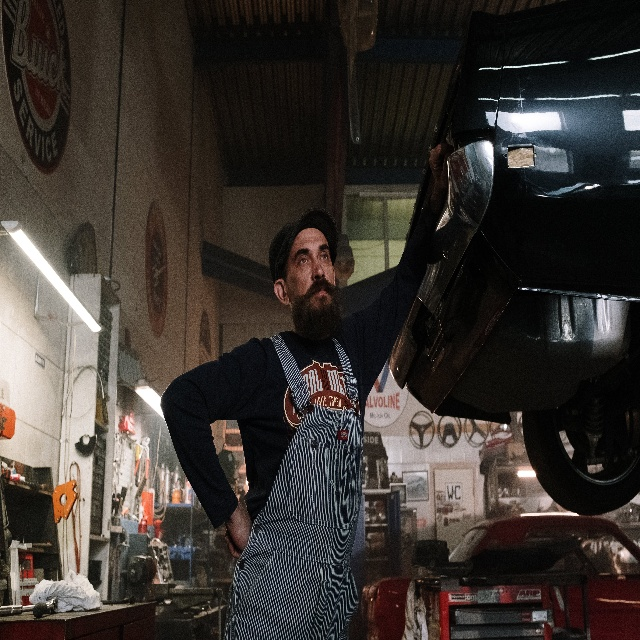Sin_guantes: (223, 502, 255, 557), (428, 143, 448, 197)
